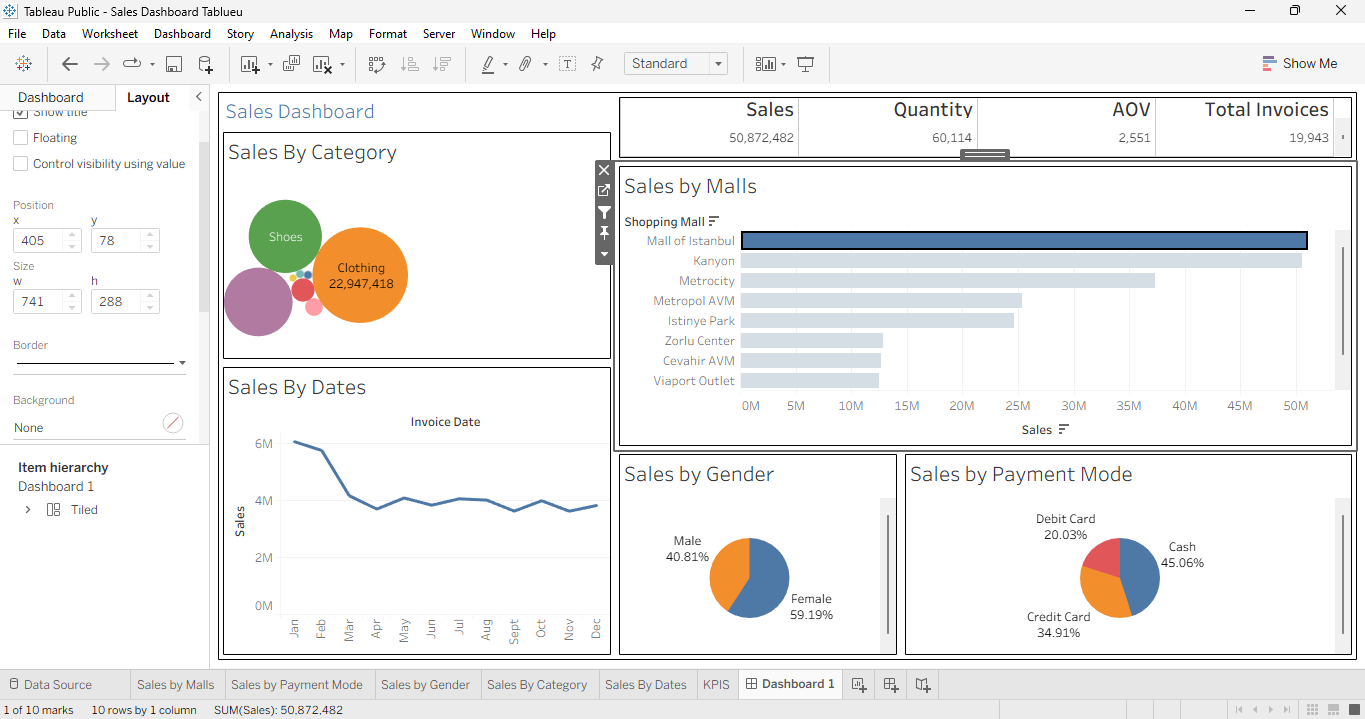

This screenshot's page, from the dashboard's own definition file:
{"tool":"tableau","page":{"name":"Dashboard 1","canvas":[1000,1000],"units":"permille","ordinal":0},"visuals":[{"type":"text","box":[7.8,15.4,342.8,59.9]},{"type":"worksheet","title":"KPIS","mark":"Automatic","box":[350.6,15.4,641.6,118.2]},{"type":"worksheet","title":"Sales By Category","mark":"Circle","box":[7.8,75.3,342.8,409.2]},{"type":"worksheet","title":"Sales by Malls","mark":"Automatic","rows":["shopping_mall"],"cols":["Calculation_0240022102253568"],"box":[350.6,133.6,641.6,493.2]},{"type":"worksheet","title":"Sales By Dates","mark":"Automatic","rows":["Calculation_0240022102253568"],"cols":["invoice_date"],"box":[7.8,484.6,342.8,500]},{"type":"worksheet","title":"Sales by Gender","mark":"Pie","box":[350.6,626.7,247.6,357.9]},{"type":"worksheet","title":"Sales by Payment Mode","mark":"Pie","box":[598.2,626.7,393.9,357.9]}]}

Visuals, with their boxes on the dashboard's canvas, which has no fixed pixel size, in thousandths of its width and height (x1, y1, x2, y2). These are canvas units, not pixel positions in the 1365x719 screenshot, which may show the page scaled, cropped or inside an application window:
text: bbox=(8, 15, 351, 75)
"KPIS" worksheet: bbox=(351, 15, 992, 134)
"Sales By Category" worksheet (Circle marks): bbox=(8, 75, 351, 484)
"Sales by Malls" worksheet: bbox=(351, 134, 992, 627)
"Sales By Dates" worksheet: bbox=(8, 485, 351, 985)
"Sales by Gender" worksheet (Pie marks): bbox=(351, 627, 598, 985)
"Sales by Payment Mode" worksheet (Pie marks): bbox=(598, 627, 992, 985)
